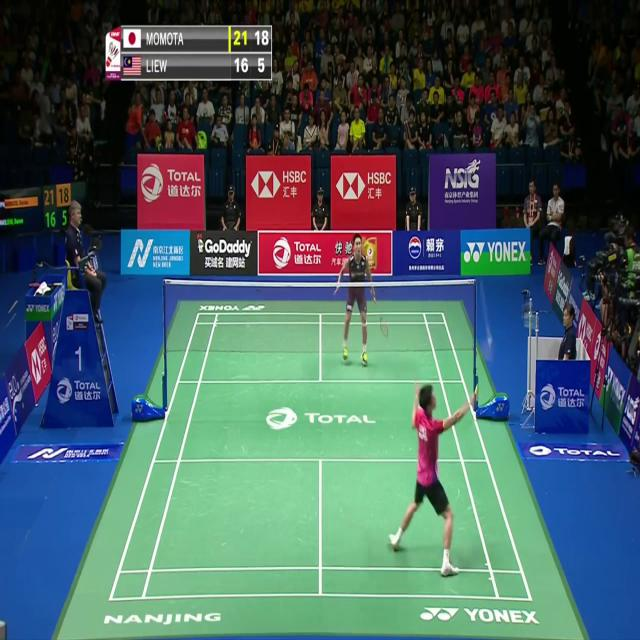Shuttlecock: (480, 298, 487, 310)
